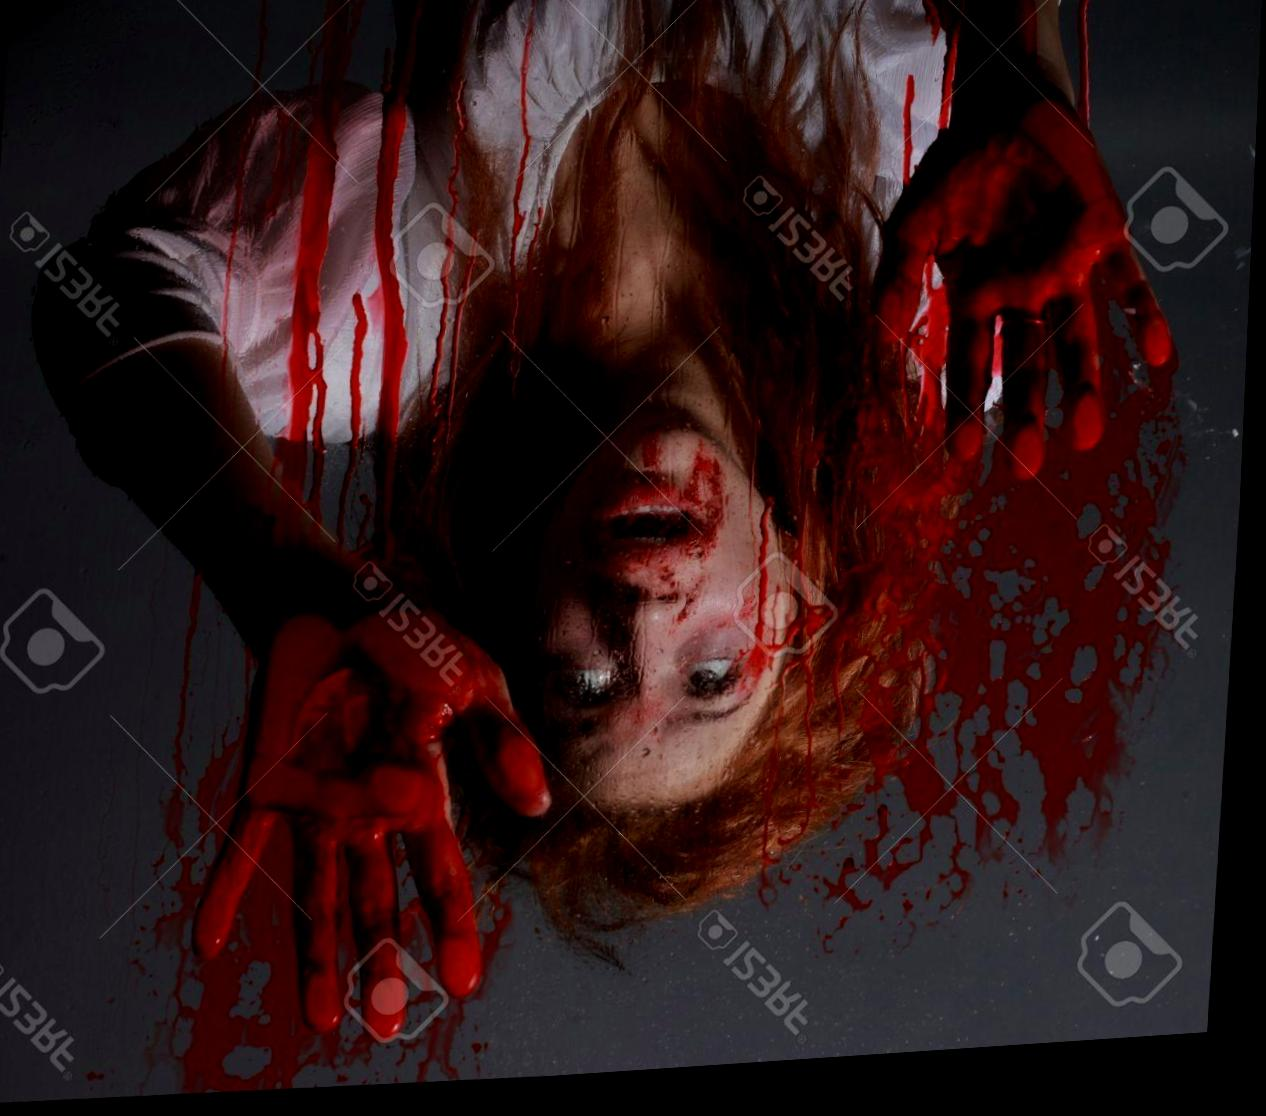Fire: (16, 0, 1223, 1099)
